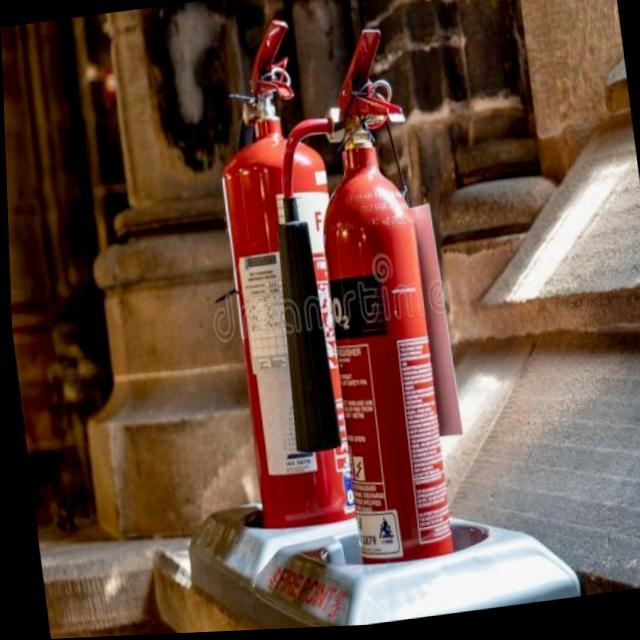FireExtinguisher: (240, 15, 480, 615), (188, 11, 374, 580)
